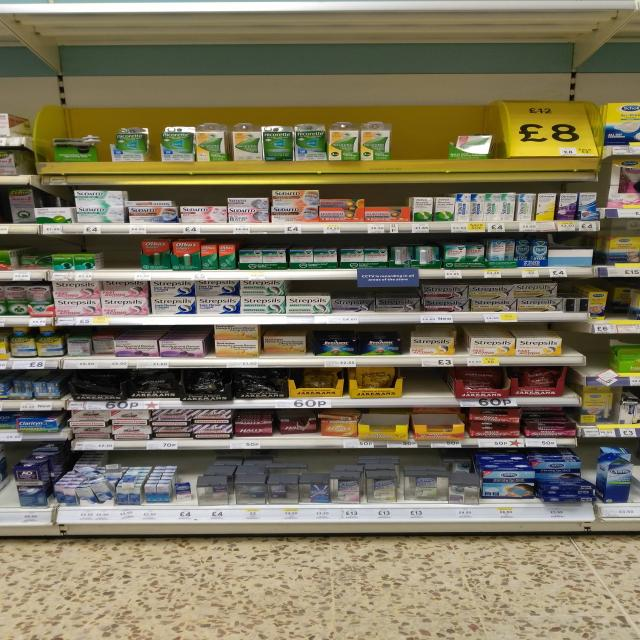void: (398, 119, 448, 160), (406, 369, 450, 397), (103, 241, 136, 269)
